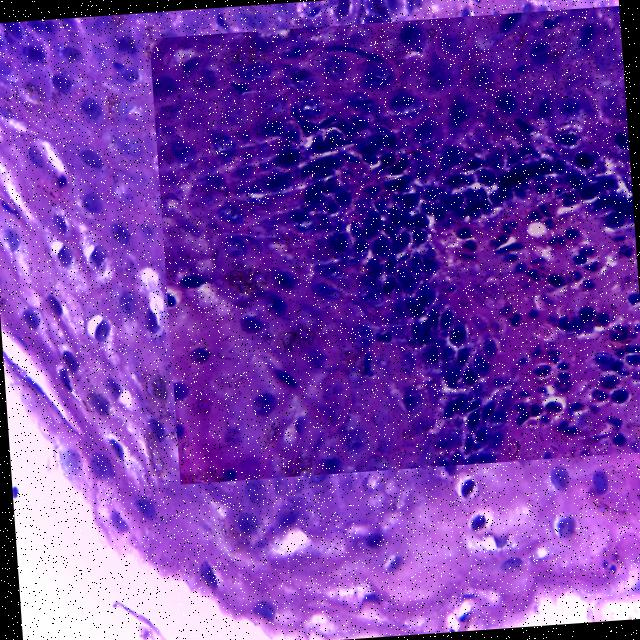Nuclear Hyperchromatism: (151, 22, 635, 464)
